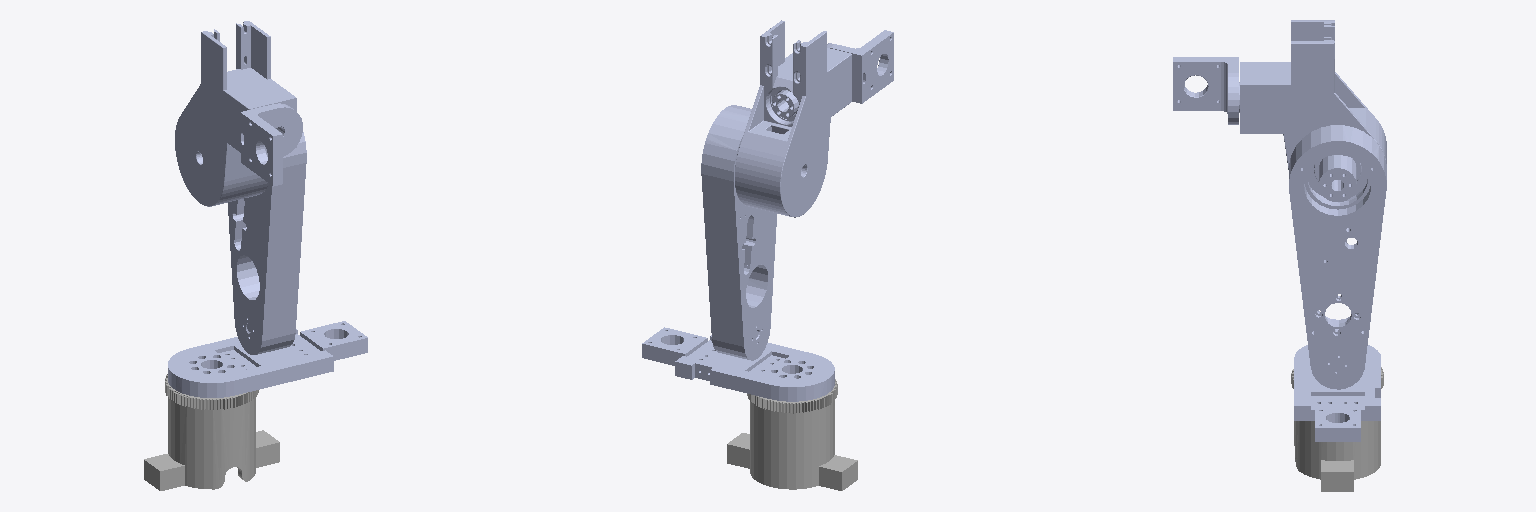
The robot description file, URDF, robot "Base_shoulder_forearm_comined":
<?xml version="1.0" encoding="utf-8"?>
<!-- This URDF was automatically created by SolidWorks to URDF Exporter! Originally created by [author] ([email redacted]) 
     Commit Version: 1.6.0-4-g7f85cfe  Build Version: 1.6.7995.38578
     For more information, please see http://wiki.ros.org/sw_urdf_exporter -->
<robot
  name="Base_shoulder_forearm_comined">
  <link
    name="base_link">
    <inertial>
      <origin
        xyz="0.0624999992862357 0.0154335077592649 0.0423729744092669"
        rpy="0 0 0" />
      <mass
        value="0.225786464020401" />
      <inertia
        ixx="0.000244145774214811"
        ixy="-3.31255990336094E-12"
        ixz="-3.40844665107015E-12"
        iyy="0.000319247454268192"
        iyz="3.0184574570031E-06"
        izz="0.00032348461917382" />
    </inertial>
    <visual>
      <origin
        xyz="0 0 0"
        rpy="0 0 0" />
      <geometry>
        <mesh
          filename="package://robotarm_description/meshes/base_link.STL" />
      </geometry>
      <material
        name="">
        <color
          rgba="0.752941176470588 0.752941176470588 0.752941176470588 1" />
      </material>
    </visual>
    <collision>
      <origin
        xyz="0 0 0"
        rpy="0 0 0" />
      <geometry>
        <mesh
          filename="package://robotarm_description/meshes/base_link_colision.STL" />
      </geometry>
    </collision>
  </link>
  <link
    name="Link_1">
    <inertial>
      <origin
        xyz="0.04994 -0.00042087 -0.0075773"
        rpy="0 0 0" />
      <mass
        value="0.15704" />
      <inertia
        ixx="7.9296E-05"
        ixy="1.6685E-06"
        ixz="2.3634E-06"
        iyy="0.00037249"
        iyz="8.587E-09"
        izz="0.00044636" />
    </inertial>
    <visual>
      <origin
        xyz="0 0 0"
        rpy="0 0 0" />
      <geometry>
        <mesh
          filename="package://robotarm_description/meshes/Link_1.STL" />
      </geometry>
      <material
        name="">
        <color
          rgba="0.79216 0.81961 0.93333 1" />
      </material>
    </visual>
    <collision>
      <origin
        xyz="0 0 0"
        rpy="0 0 0" />
      <geometry>
        <mesh
          filename="package://robotarm_description/meshes/Link_1_colision.STL" />
      </geometry>
    </collision>
  </link>
  <joint
    name="Joint_1"
    type="revolute">
    <origin
      xyz="0.0625 0.015 0.106"
      rpy="0 0 0" />
    <parent
      link="base_link" />
    <child
      link="Link_1" />
    <axis
      xyz="0 0 1" />
    <limit
      lower="-6.28320"
      upper="6.28320"
      effort="10"
      velocity="20" />
  </joint>
  <link
    name="Link_2">
    <inertial>
      <origin
        xyz="-0.048126 -0.0015216 0.10252"
        rpy="0 0 0" />
      <mass
        value="0.42777" />
      <inertia
        ixx="0.0021672"
        ixy="-1.5265E-06"
        ixz="5.2003E-06"
        iyy="0.0019837"
        iyz="-1.9318E-06"
        izz="0.00027157" />
    </inertial>
    <visual>
      <origin
        xyz="0 0 0"
        rpy="0 0 0" />
      <geometry>
        <mesh
          filename="package://robotarm_description/meshes/Link_2.STL" />
      </geometry>
      <material
        name="">
        <color
          rgba="0.79216 0.81961 0.93333 1" />
      </material>
    </visual>
    <collision>
      <origin
        xyz="0 0 0"
        rpy="0 0 0" />
      <geometry>
        <mesh
          filename="package://robotarm_description/meshes/Link_2_colision.STL" />
      </geometry>
    </collision>
  </link>
  <joint
    name="Joint_2"
    type="revolute">
    <origin
      xyz="0.104 0.00073132 0.026933"
      rpy="0 0 0" />
    <parent
      link="Link_1" />
    <child
      link="Link_2" />
    <axis
      xyz="1 0 0" />
    <limit
      lower="-1.5708"
      upper="1.5708"
      effort="10"
      velocity="20" />
  </joint>
  <link
    name="Link_3">
    <inertial>
      <origin
        xyz="-0.058541 -0.016112 0.022544"
        rpy="0 0 0" />
      <mass
        value="0.52301" />
      <inertia
        ixx="0.0012596"
        ixy="-2.0717E-05"
        ixz="2.8987E-05"
        iyy="0.00092528"
        iyz="0.00031334"
        izz="0.00068119" />
    </inertial>
    <visual>
      <origin
        xyz="0 0 0"
        rpy="0 0 0" />
      <geometry>
        <mesh
          filename="package://robotarm_description/meshes/Link_3.STL" />
      </geometry>
      <material
        name="">
        <color
          rgba="0.79216 0.81961 0.93333 1" />
      </material>
    </visual>
    <collision>
      <origin
        xyz="0 0 0"
        rpy="0 0 0" />
      <geometry>
        <mesh
          filename="package://robotarm_description/meshes/Link_3_colision.STL" />
      </geometry>
    </collision>
  </link>
  <joint
    name="Joint_3"
    type="revolute">
    <origin
      xyz="-0.031 -0.00074265 0.1818"
      rpy="0 0 0" />
    <parent
      link="Link_2" />
    <child
      link="Link_3" />
    <axis
      xyz="-1 0 0" />
    <limit
      lower="-6.28"
      upper="6.28"
      effort="10"
      velocity="20" />
  </joint>
  <link
    name="Link_4">
    <inertial>
      <origin
        xyz="-0.01028 -0.081085 -1.1126E-05"
        rpy="0 0 0" />
      <mass
        value="0.078146" />
      <inertia
        ixx="0.00011752"
        ixy="-2.795E-05"
        ixz="-1.7214E-08"
        iyy="3.2115E-05"
        iyz="-3.7752E-08"
        izz="0.00012609" />
    </inertial>
    <visual>
      <origin
        xyz="0 0 0"
        rpy="0 0 0" />
      <geometry>
        <mesh
          filename="package://robotarm_description/meshes/Link_4.STL" />
      </geometry>
      <material
        name="">
        <color
          rgba="0.79216 0.81961 0.93333 1" />
      </material>
    </visual>
    <collision>
      <origin
        xyz="0 0 0"
        rpy="0 0 0" />
      <geometry>
        <mesh
          filename="package://robotarm_description/meshes/Link_4.STL" />
      </geometry>
    </collision>
  </link>
  <joint
    name="Joint_4"
    type="revolute">
    <origin
      xyz="-0.061 -0.003 0.06"
      rpy="0 0 0" />
    <parent
      link="Link_3" />
    <child
      link="Link_4" />
    <axis
      xyz="0 -1 0" />
    <limit
      lower="-6.2832"
      upper="6.2832"
      effort="10"
      velocity="20" />
  </joint>
</robot>

--- Render facts (derived) ---
3 views of the same robot in one strip: view 1: azimuth 30°, elevation 25°; view 2: azimuth 150°, elevation 25°; view 3: azimuth 270°, elevation 25° (orthographic).
Model Base_shoulder_forearm_comined with 5 links and 4 joints (4 revolute), rooted at base_link, posed all joints at 0.
Links seen in each view (by area): view 1: Link_3, Link_2, base_link, Link_1, Link_4; view 2: Link_3, Link_2, base_link, Link_1, Link_4; view 3: Link_2, Link_3, Link_1, base_link, Link_4.
Link boxes in pixels (x1,y1,x2,y2): Link_3: (175,21,296,206); Link_2: (228,132,306,354); base_link: (144,374,279,490); Link_1: (168,321,367,397); Link_4: (241,103,302,186); Link_3: (735,20,851,217); Link_2: (701,105,776,360); base_link: (727,379,857,490); Link_1: (642,327,834,401); Link_4: (772,30,893,117); Link_2: (1289,125,1386,389); Link_3: (1240,20,1386,201); Link_1: (1294,345,1380,441); base_link: (1291,367,1383,491); Link_4: (1173,57,1239,124).
Bounding box of the posed robot: 0.2135 × 0.196 × 0.4417 m (x, y, z).
Meshes: 5 distinct files referenced, 5 mesh visuals loaded (5 binary STL).